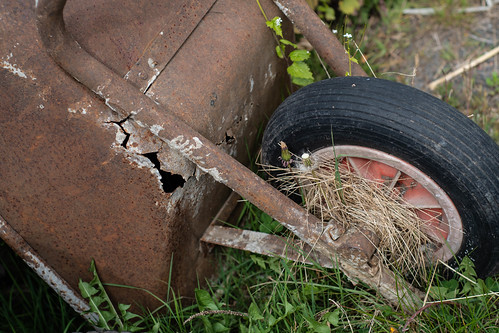pushcart: (1, 1, 477, 309)
